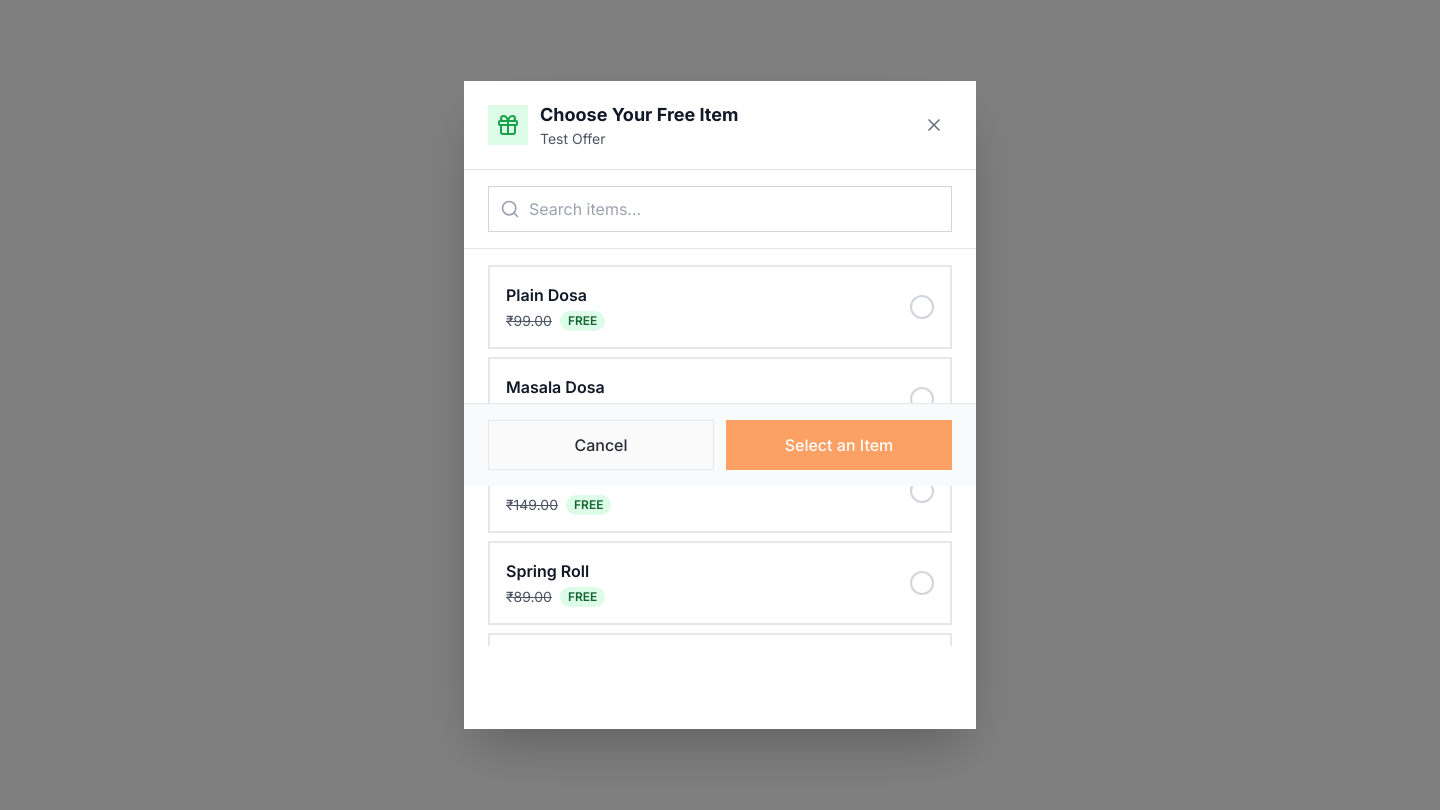
Test: FreeItemSelector Component - Guest UI › Search Functionality › should filter items based on search query
Type "Dosa" into the field with placeholder "Search items...".
click(720, 209); type("Dosa")  # box left=488, top=186, right=952, bottom=232
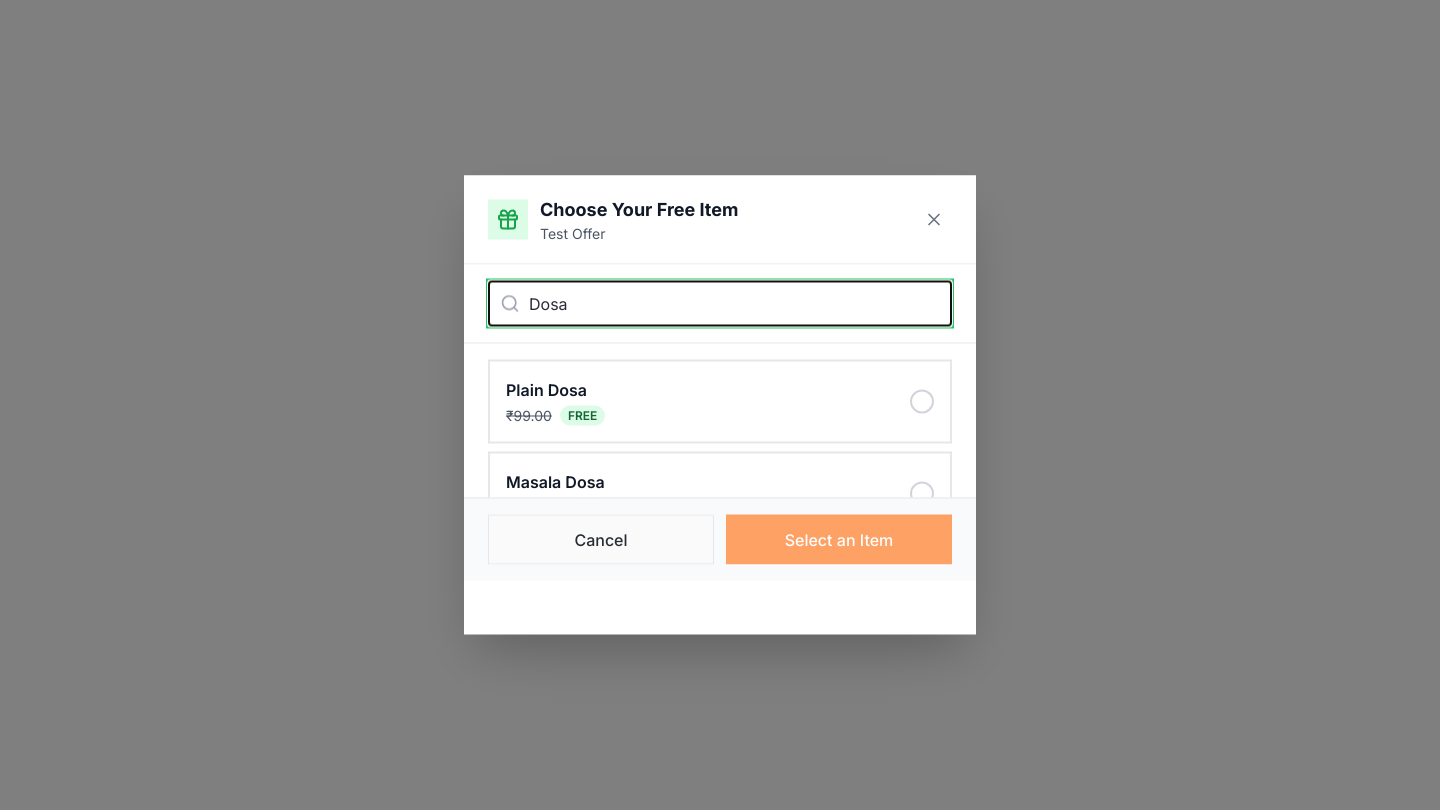
Expected: the heading "Plain Dosa" is shown, left=506, top=378, right=587, bottom=402
Expected: the button "Paneer Roll" is gone
Expected: the button "Spring Roll" is gone
